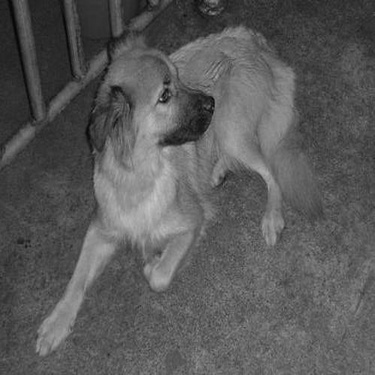dog: (27, 23, 328, 358)
